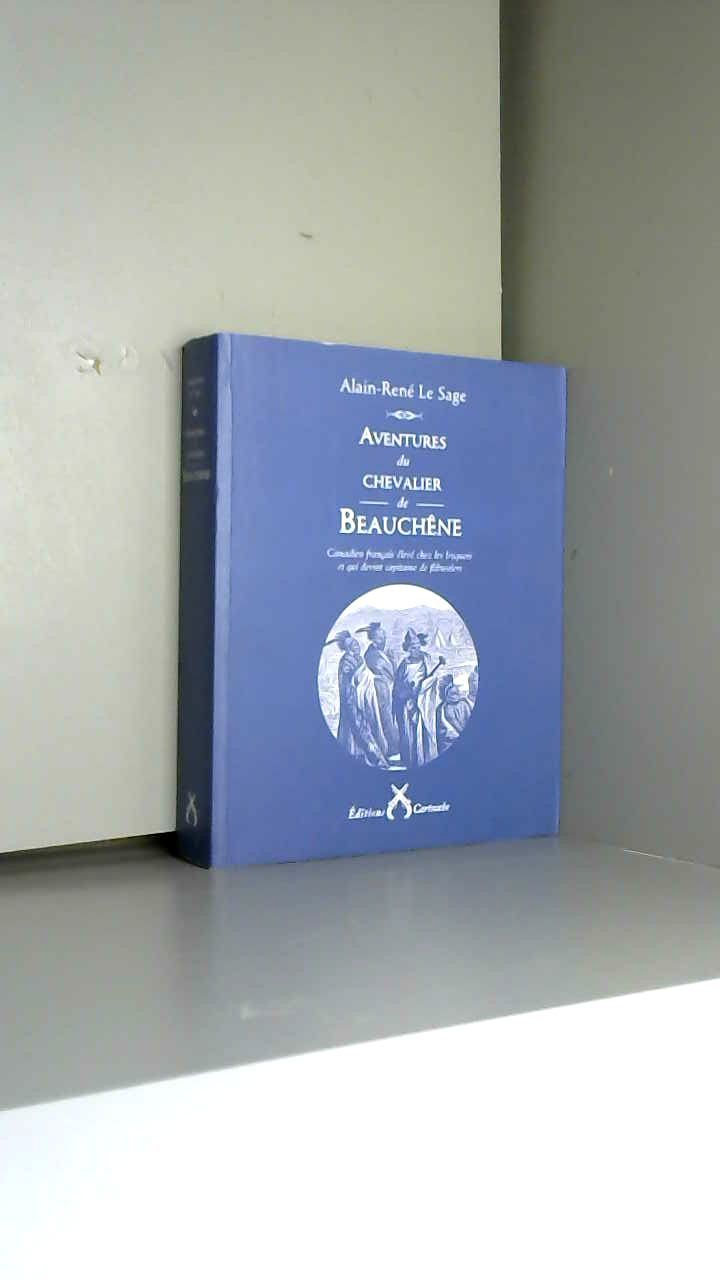book: (142, 293, 609, 908)
